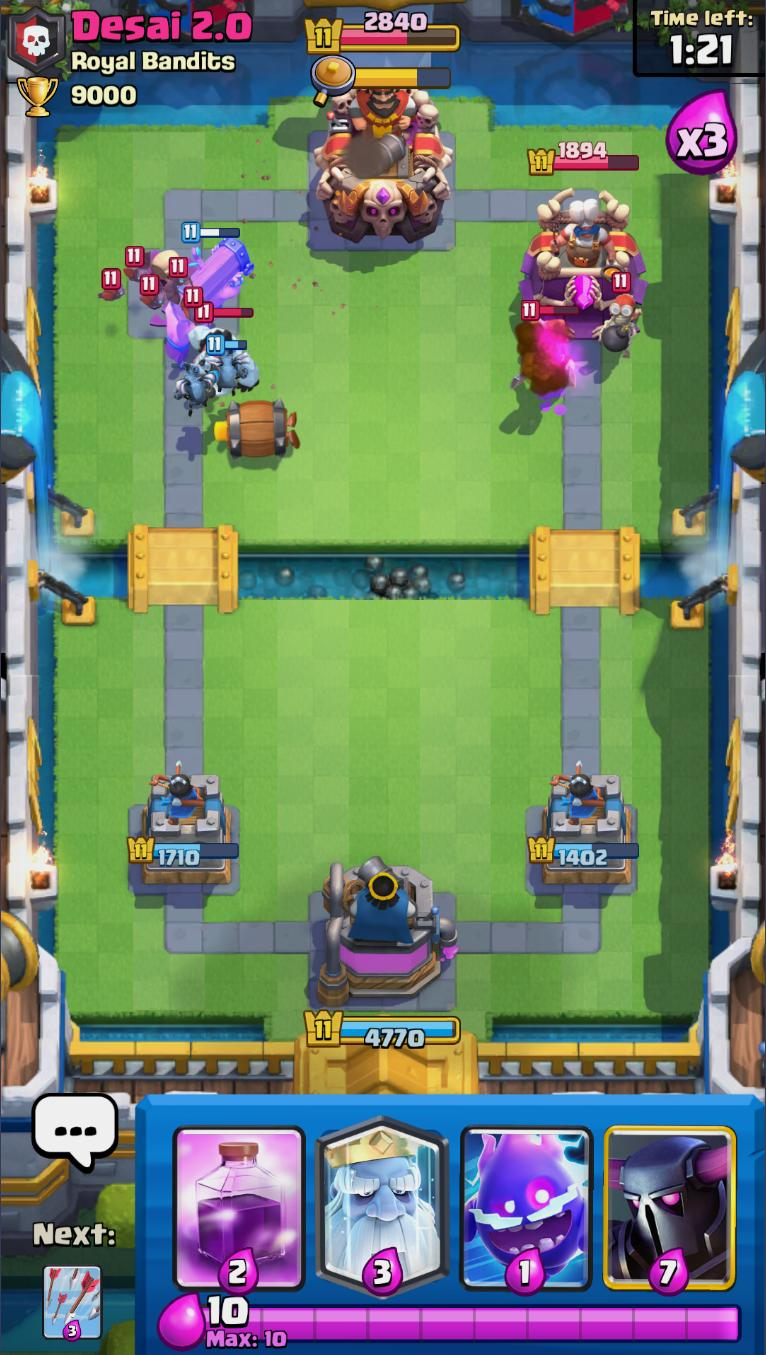ArrowNext: (41, 1264, 103, 1315)
BarbarianBarrel: (210, 398, 300, 466)
Bat: (163, 255, 196, 305), (123, 242, 156, 286), (178, 286, 209, 332), (97, 264, 129, 305), (136, 276, 167, 313)
Berserker: (512, 298, 582, 395)
Bomber: (596, 272, 644, 358)
Chef: (553, 198, 616, 277)
ElectroSpiritDeck: (455, 1096, 598, 1295)
Elixir: (204, 1293, 747, 1350)
EnemyTower: (517, 186, 649, 348)
EnemyTowerBrocken: (122, 240, 243, 340)
IceGolem: (189, 301, 260, 395)
KingTower: (312, 82, 455, 245)
KingTowerHP: (303, 9, 463, 56)
MyBattleRam: (162, 220, 257, 368)
MyKingHP: (300, 1006, 462, 1051)
MyKingTower: (316, 851, 462, 1009)
MyMinion: (171, 360, 219, 417), (204, 335, 250, 392)
MyPrincessTower: (125, 770, 242, 892), (528, 775, 639, 894)
MyPrincessTowerHP: (528, 833, 642, 869), (128, 834, 244, 868)
PekkaDeck: (601, 1096, 741, 1296)
RageDeck: (166, 1095, 313, 1287)
RoyaleGhostDeck: (308, 1098, 451, 1296)
TowerPrincessHP: (527, 140, 643, 179)
